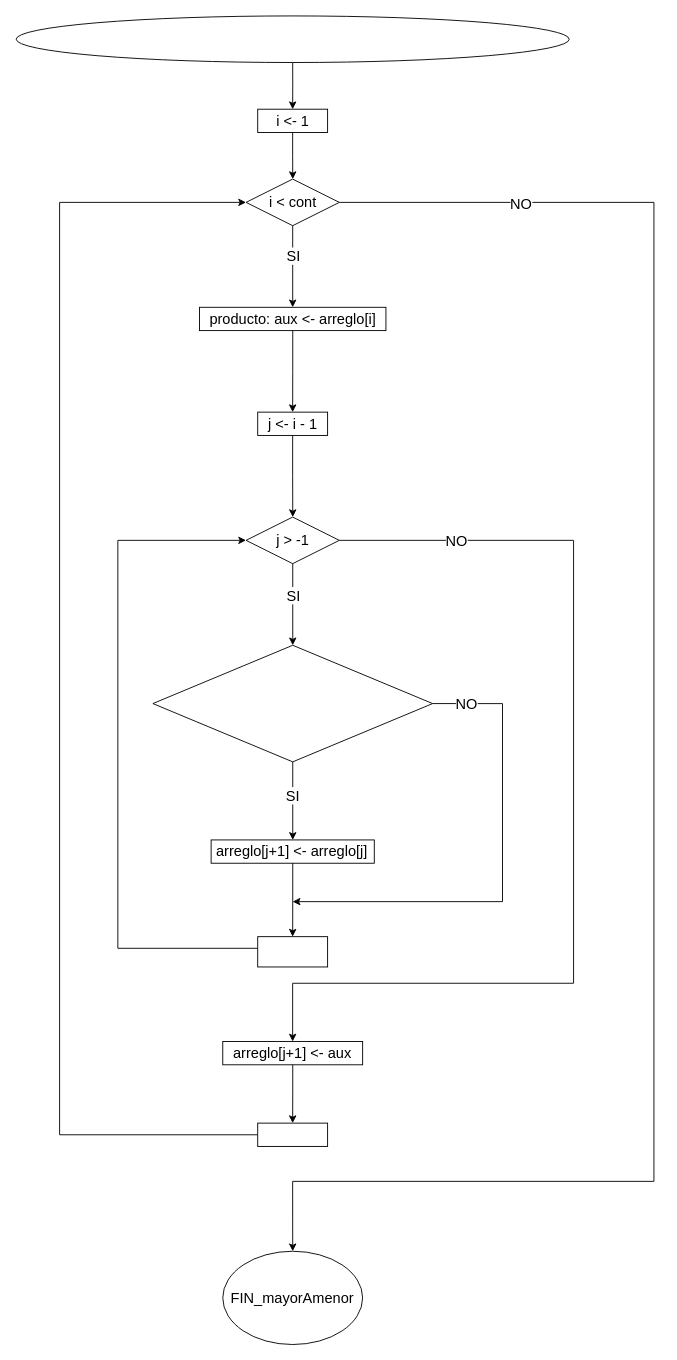
Some shapes in this 677 by 1360 pixel diagram are drawn without their labels. The box of each missing label's shape, as (x1, y1, x2, y2) in pixels:
aux.cantidad > arreglo[j].cantidad: (152, 644, 433, 762)
i <- i + 1: (257, 1122, 328, 1146)
j <- j-1: (257, 936, 328, 967)
PROCEDIMIENTO mayorAmenor(<E/S> producto: arreglo[ ], <E> cont): (15, 15, 569, 63)
